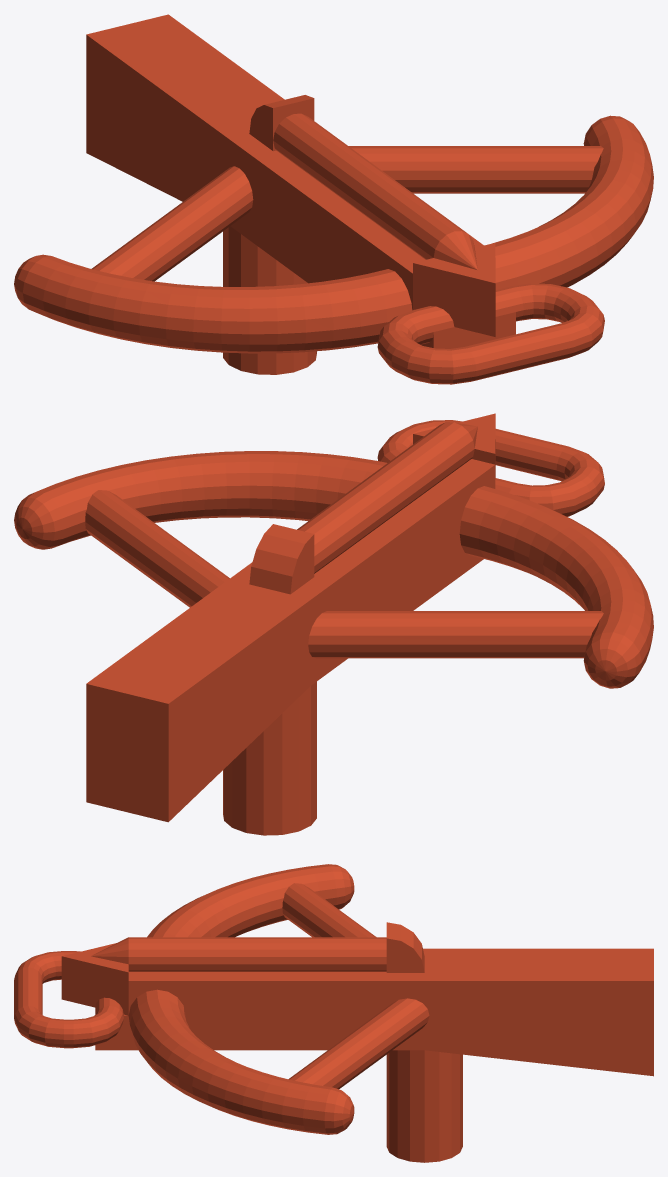
The model's file is legoCrossbow.fbx.
The picture shows the model from 3 angles, top to bottom: view 1: azimuth 30°, elevation 25°; view 2: azimuth 150°, elevation 25°; view 3: azimuth 270°, elevation 25°; orthographic projection. The views are drawn at different scales.
Visible parts, largest first — view 1: Piece000; view 2: Piece000; view 3: Piece000.
Part boxes in pixels (x1,y1,x2,y2): Piece000: (14,14,653,384); Piece000: (14,413,653,835); Piece000: (14,864,653,1162).
Bounding box in the file's own units: 603 × 250 × 670.
